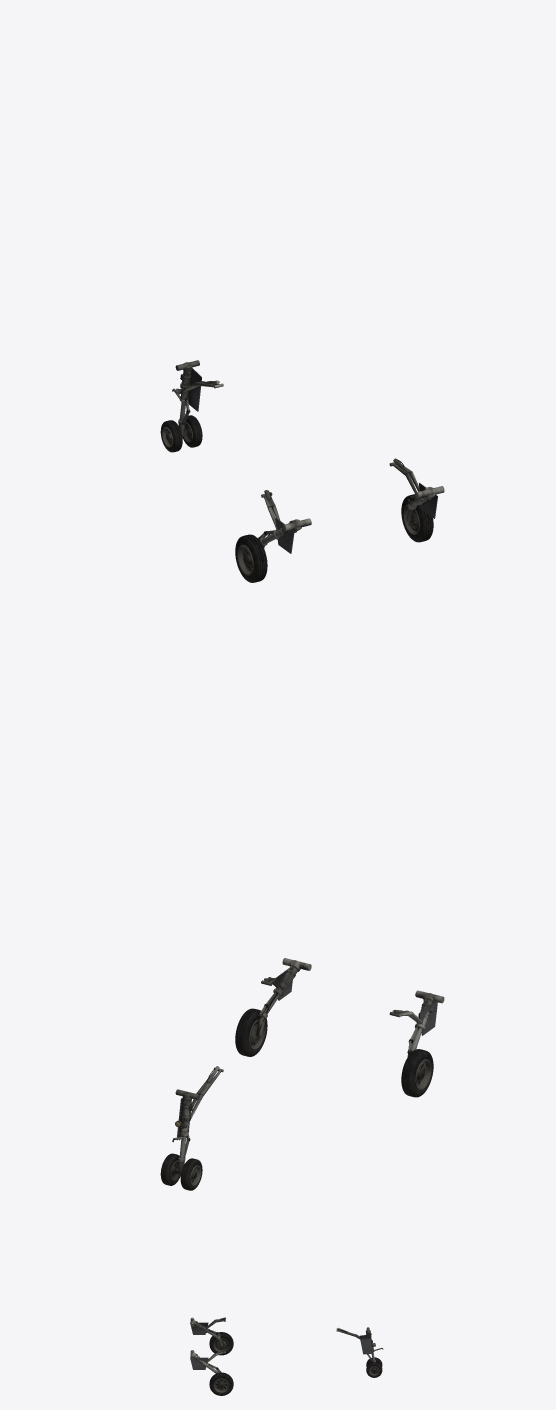
The model's file is e_f18c_gear.glb.
3 views of the same model, one above another, from view 1: azimuth 30°, elevation 25°; view 2: azimuth 150°, elevation 25°; view 3: azimuth 270°, elevation 25° (orthographic). The views are drawn at different scales.
Parts seen in each view (by area): view 1: body|F18C_paint; view 2: body|F18C_paint; view 3: body|F18C_paint.
Part boxes in pixels (x1,y1,x2,y2): body|F18C_paint: (160, 360, 444, 582); body|F18C_paint: (160, 958, 444, 1190); body|F18C_paint: (190, 1317, 383, 1395).
Bounding box in the file's own units: 3.34 × 5.56 × 17.07.
Materials: 1 (1 with a texture image).
